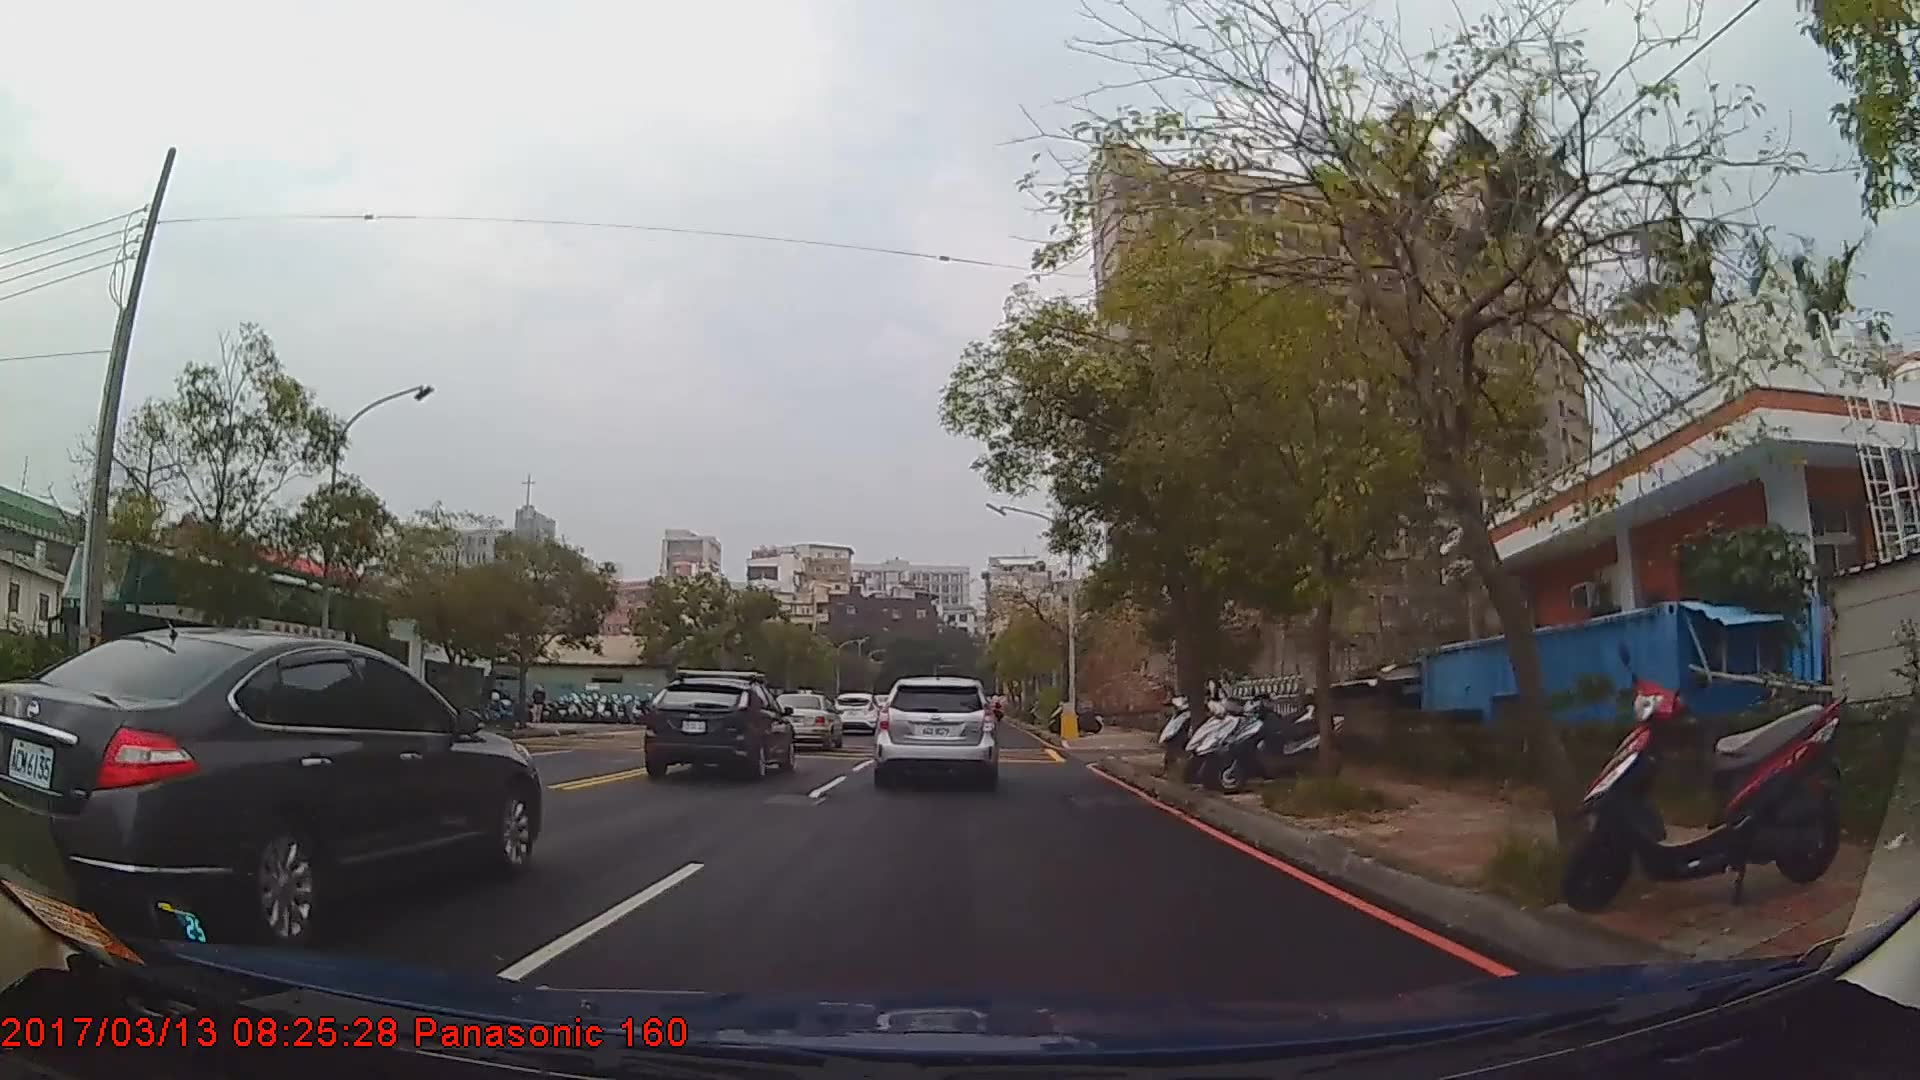vehicle: (0, 625, 542, 944), (40, 531, 386, 745), (641, 673, 796, 781), (878, 670, 1002, 786), (767, 688, 843, 750), (831, 690, 881, 735)
